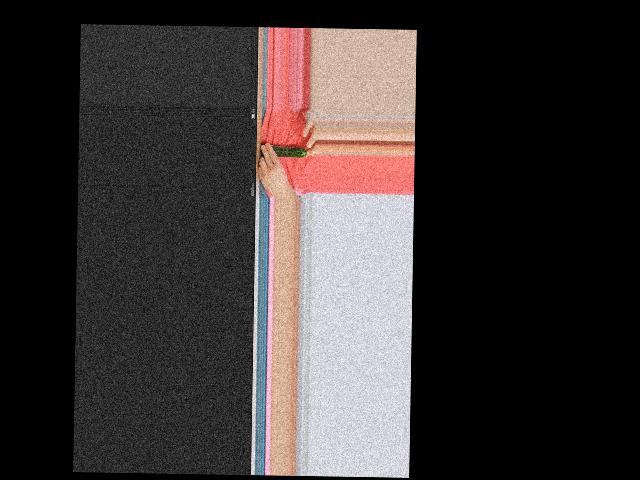cucumber: (271, 146, 307, 158)
